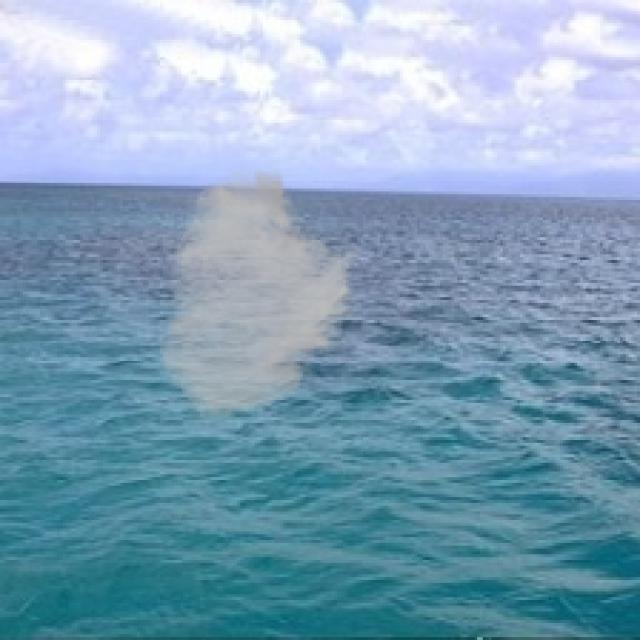Smoke: (157, 166, 363, 423)
